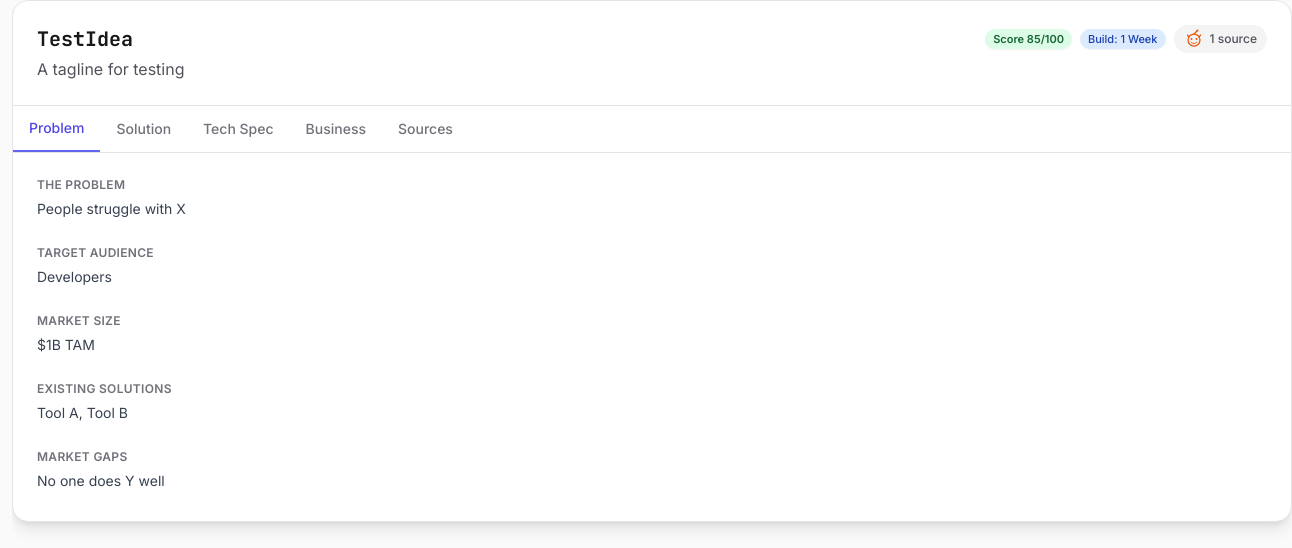
Test: IdeaBriefCard › renders sources tab content correctly
The image size is (1292, 548).
Click the tab "Sources" at (425, 129), box [382,106,469,152]
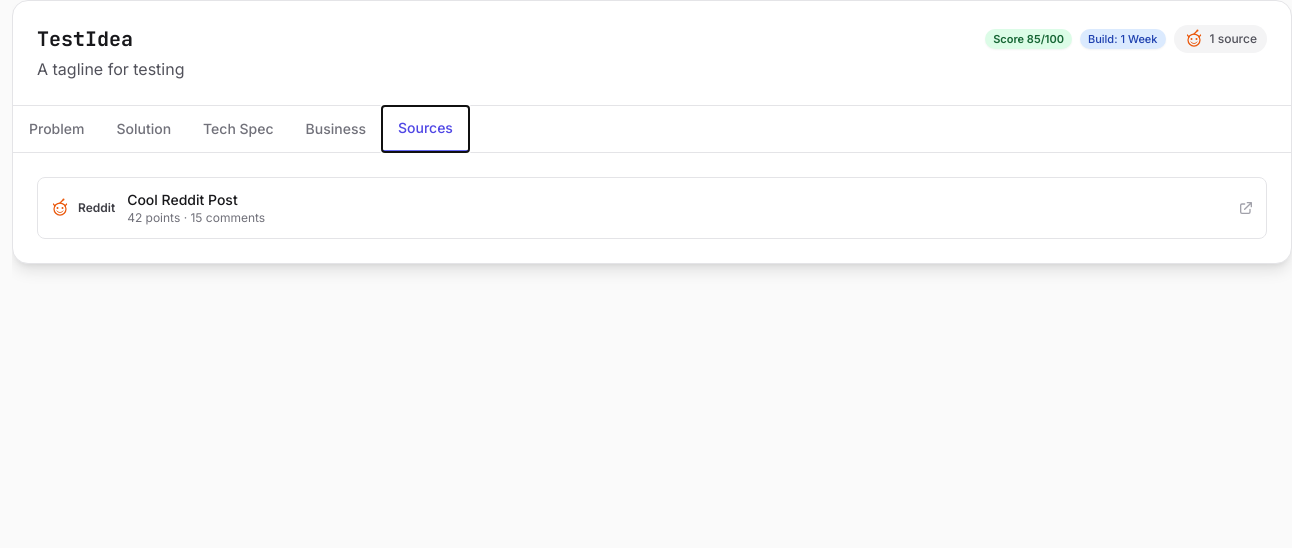
Now the text "Cool Reddit Post" is shown, box [127,191,238,208]
Now the text "42 points · 15 comments" is shown, box [127,210,265,225]
